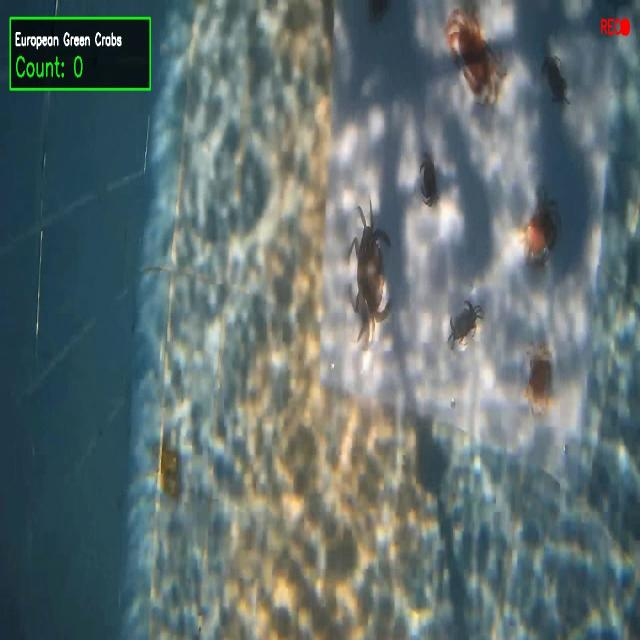European_Green_Crab: (343, 199, 394, 357), (443, 292, 487, 360), (540, 48, 572, 111)
